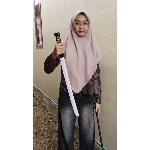Pedang: (52, 28, 84, 118)
